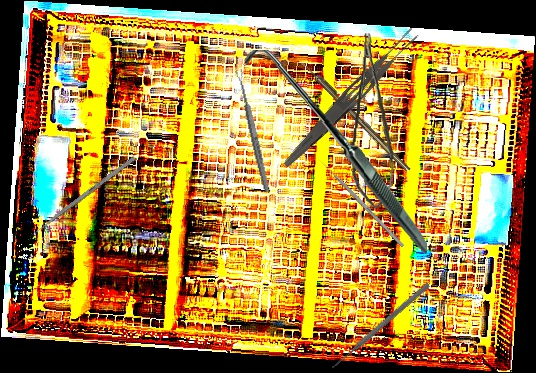Dressing Forceps: (280, 24, 422, 174)
Hook Surgical: (241, 49, 431, 253), (300, 58, 411, 174)
Micro Scissor: (345, 32, 406, 211)
Pusher: (27, 155, 137, 240), (329, 281, 432, 371), (316, 156, 405, 248)
Surgical Spoon: (235, 68, 271, 193)
